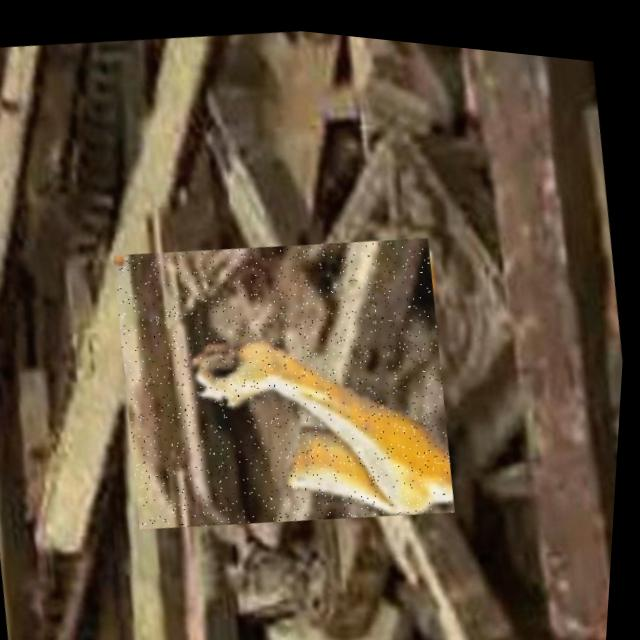Person in Rubble: (104, 202, 474, 550)
